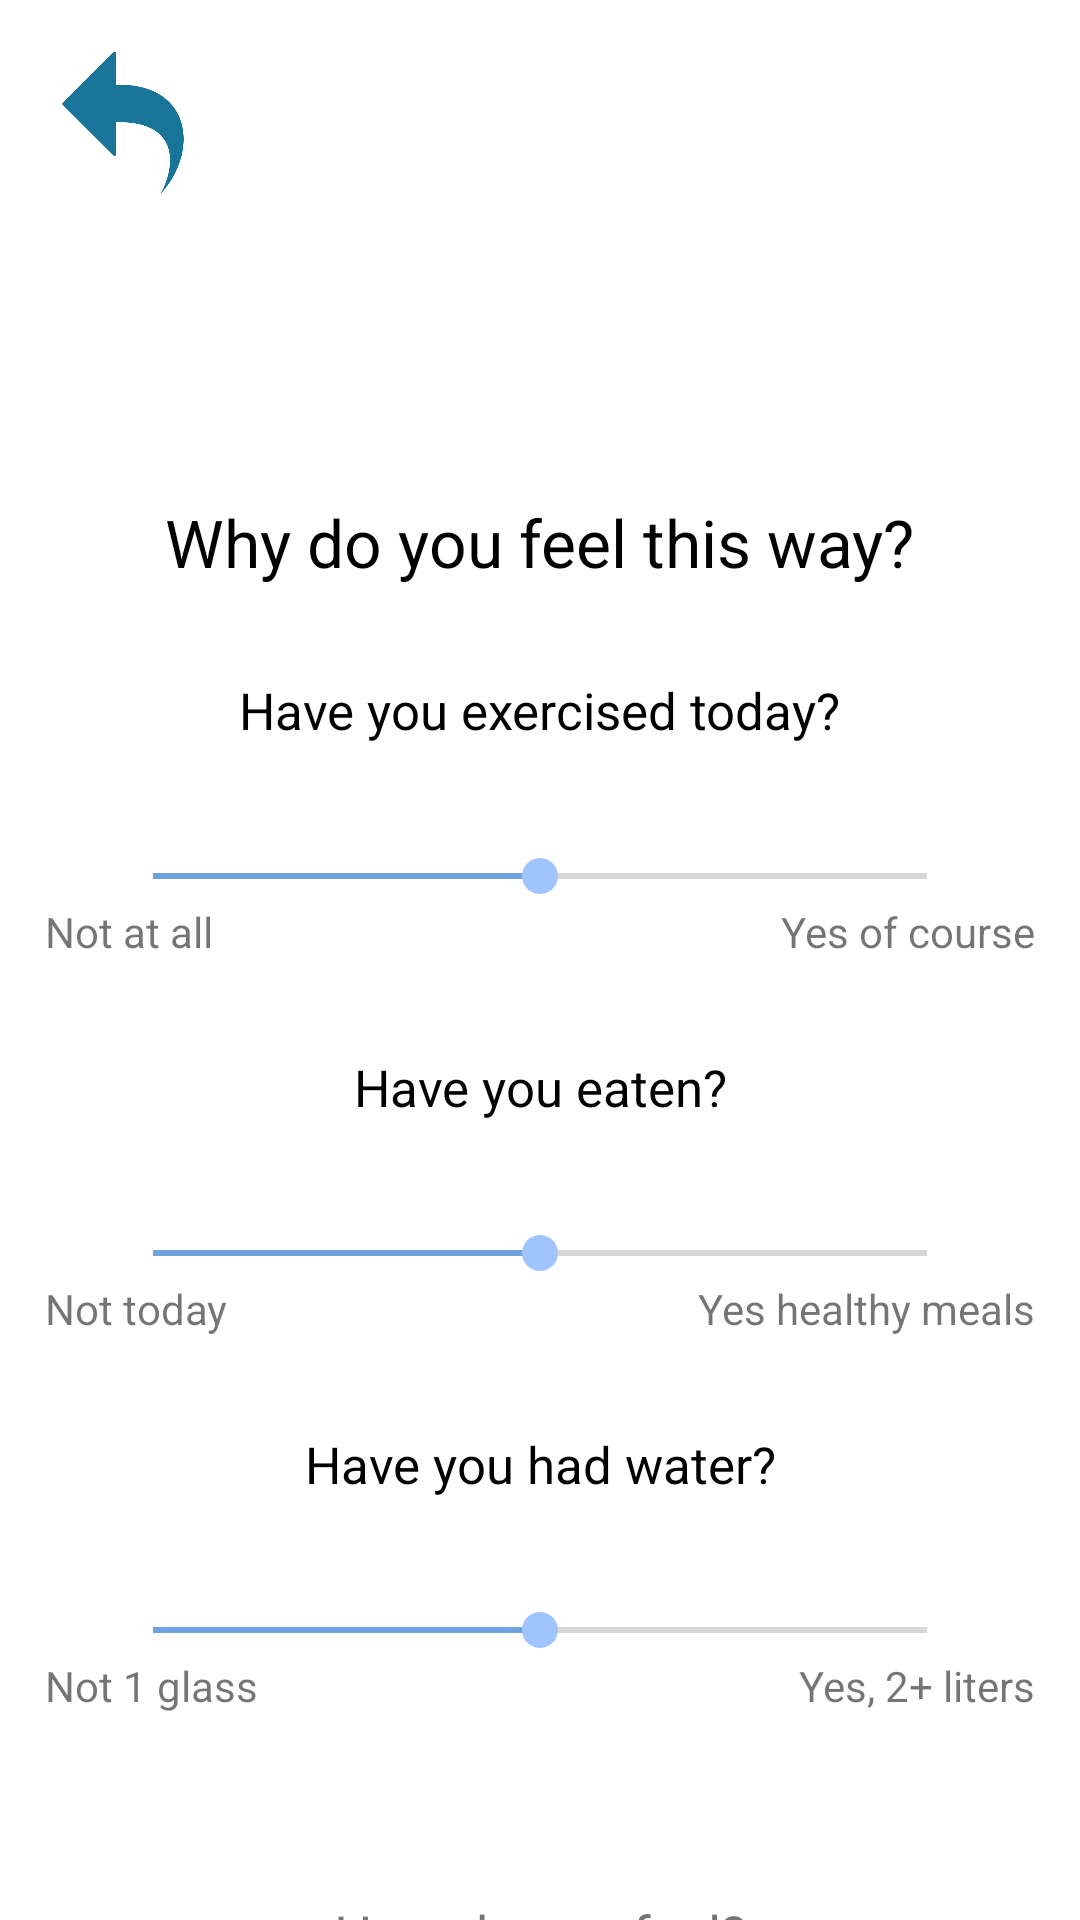

Screen size 1080*1920. Icon name, then its box in pixels as [left=x1, top=y1, right=x2, bottom=y2]:
Back: [left=62, top=52, right=184, bottom=194]
